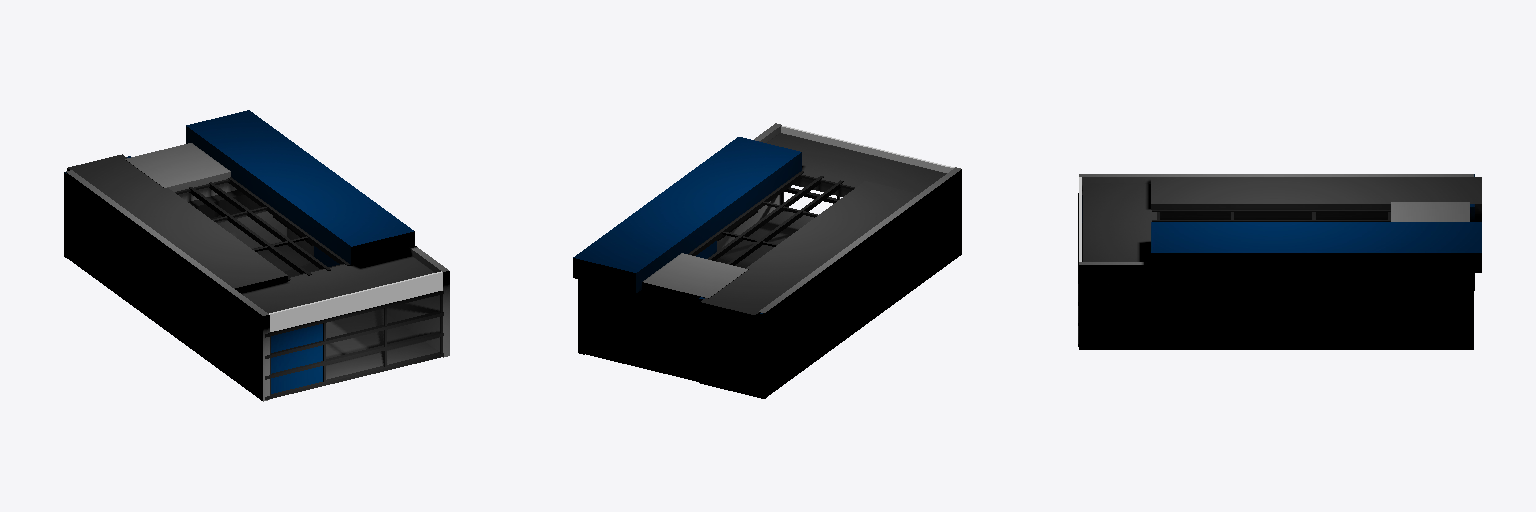
The picture shows the model from 3 angles: view 1: azimuth 30°, elevation 25°; view 2: azimuth 150°, elevation 25°; view 3: azimuth 270°, elevation 25°; orthographic projection.
Parts seen in each view (by area): view 1: Box015, Box012, Box010, Box011, Box001, Box005; view 2: Box015, Box012, Box011, Box010, Box001, Box005; view 3: Box015, Box012, Box011, Box010.
Boxes of the visible parts, x1=… form: Box015: x1=64, y1=143, x2=449, y2=401; Box012: x1=67, y1=110, x2=414, y2=292; Box010: x1=175, y1=177, x2=443, y2=399; Box011: x1=241, y1=253, x2=434, y2=313; Box001: x1=252, y1=242, x2=438, y2=379; Box005: x1=269, y1=271, x2=442, y2=331; Box015: x1=578, y1=123, x2=961, y2=398; Box012: x1=573, y1=137, x2=918, y2=335; Box011: x1=767, y1=133, x2=946, y2=196; Box010: x1=688, y1=171, x2=854, y2=265; Box001: x1=585, y1=210, x2=813, y2=381; Box005: x1=781, y1=126, x2=954, y2=172; Box015: x1=1079, y1=174, x2=1474, y2=349; Box012: x1=1151, y1=177, x2=1481, y2=272; Box011: x1=1083, y1=184, x2=1156, y2=284; Box010: x1=1078, y1=193, x2=1390, y2=346.
Bounding box in the file's own units: 30.15 × 15.03 × 55.96.
Materials: 7 (6 with a texture image).